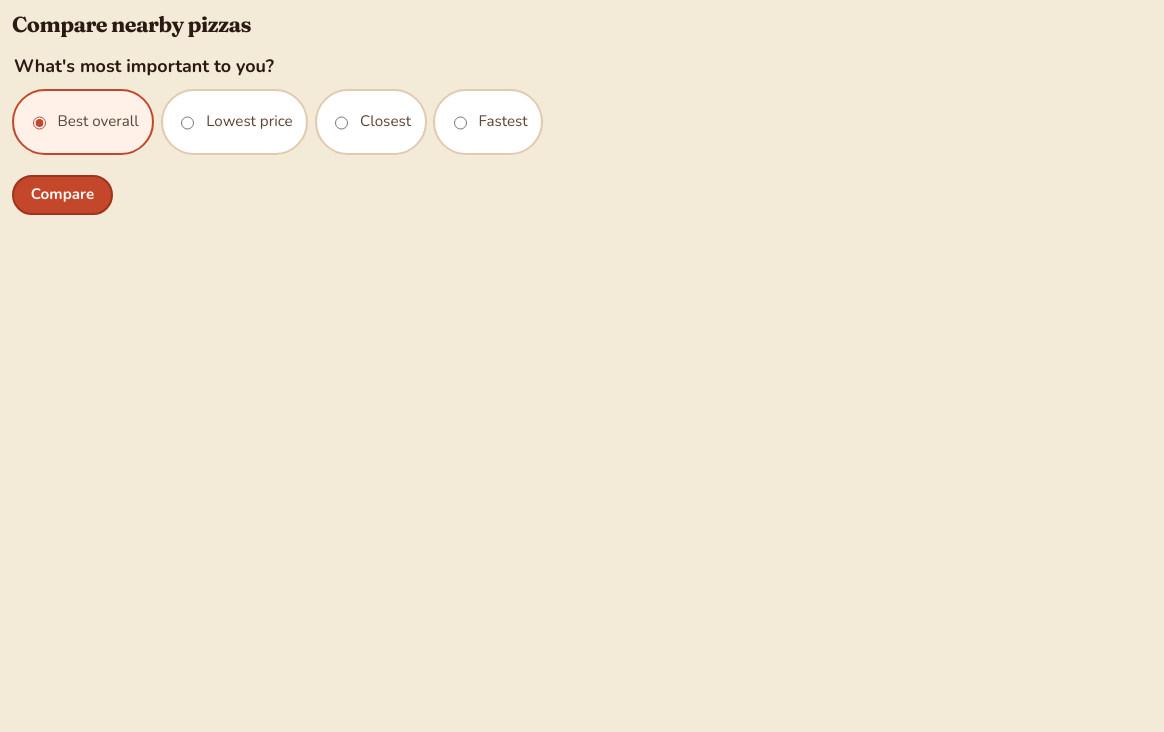
Scenario: PizzaComparisonPanel › shows ranked pizzerias from the API response
Click the button "Compare".
click(62, 195)  # box [12,175,113,214]
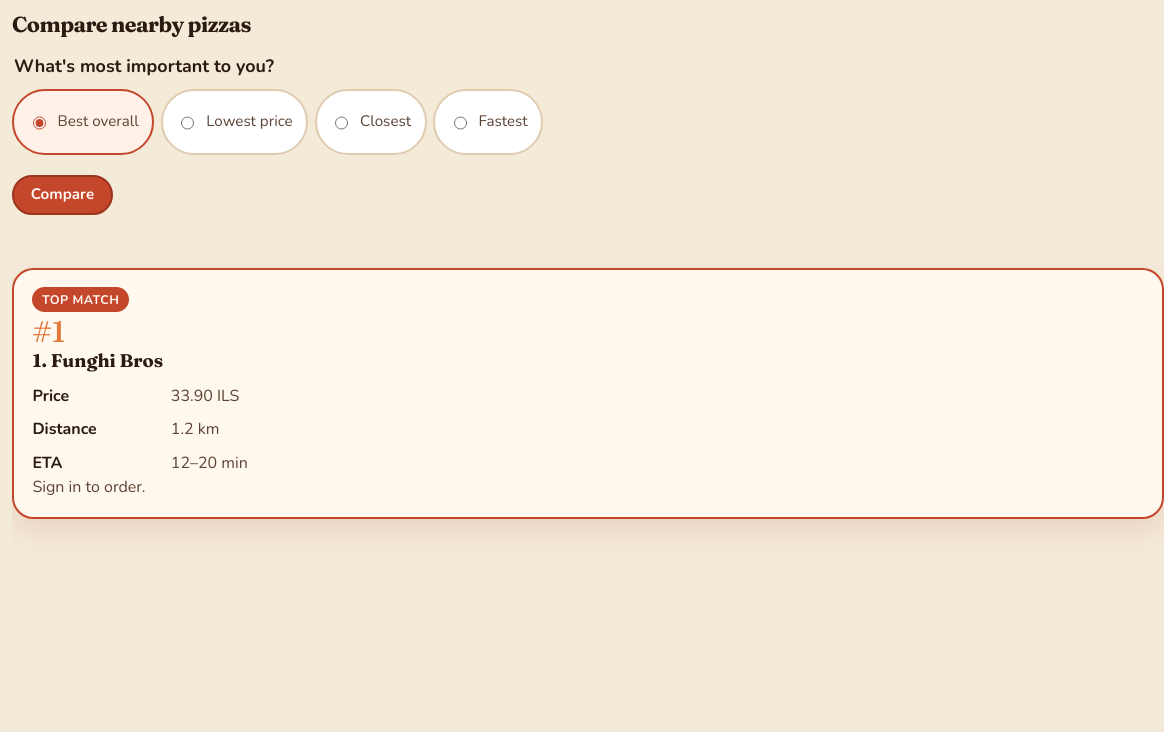
Now the heading "1. Funghi Bros" is shown, box [32,349,163,372]
Now the text "33.90 ILS" is shown, box [171,384,239,406]
Now the text "1.2 km" is shown, box [171,418,220,440]
